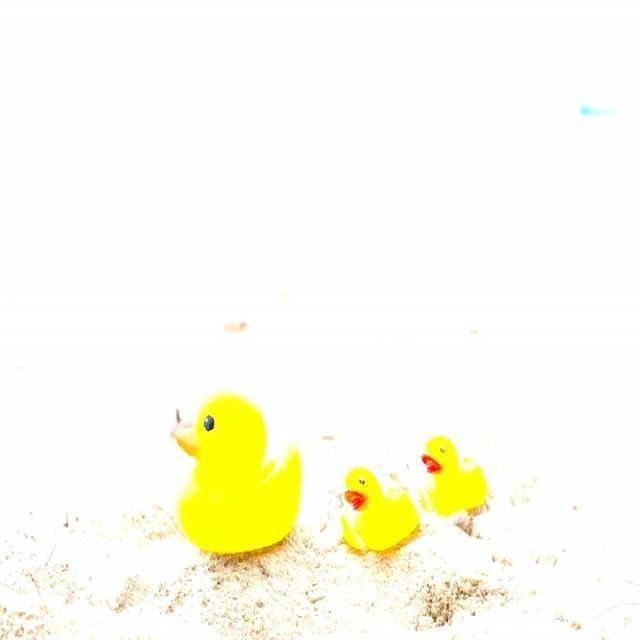rubber-duck: (175, 393, 299, 552), (340, 466, 417, 550), (420, 435, 485, 514)
